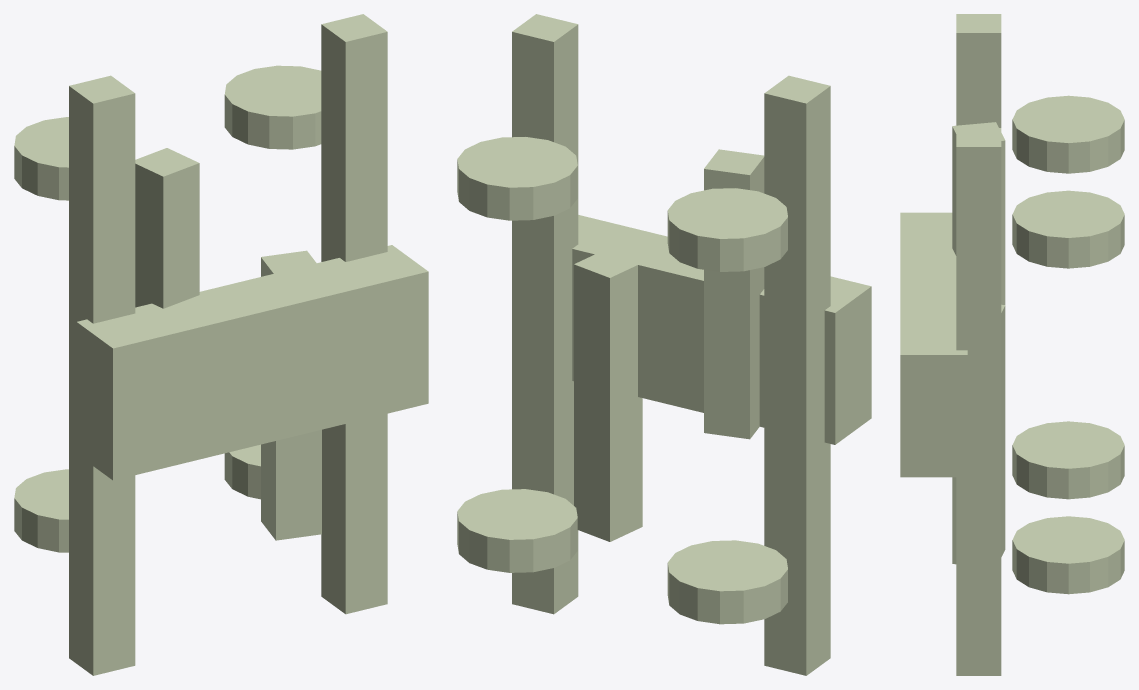
The model's file is furniture_signal_hanger_clamp_pair.glb.
3 views of the same model, side by side, from view 1: azimuth 30°, elevation 25°; view 2: azimuth 150°, elevation 25°; view 3: azimuth 270°, elevation 25° (orthographic). The views are drawn at different scales.
Visible parts, largest first — view 1: standoff_plate, channel_left, channel_right, brace_left, upper_band_right, brace_right, upper_band_left, lower_band_left, lower_band_right; view 2: channel_left, channel_right, standoff_plate, brace_right, brace_left, lower_band_right, upper_band_left, upper_band_right, lower_band_left; view 3: channel_right, standoff_plate, upper_band_left, upper_band_right, lower_band_left, lower_band_right, channel_left, brace_right, brace_left.
Part boxes in pixels (x1,y1,x2,y2): standoff_plate: (76,245,428,480); channel_left: (69,75,135,675); channel_right: (321,14,387,614); brace_left: (135,148,199,308); upper_band_right: (224,65,321,149); brace_right: (261,250,321,540); upper_band_left: (14,117,68,200); lower_band_left: (14,469,68,552); lower_band_right: (224,444,260,499); channel_left: (764,75,830,675); channel_right: (512,14,578,614); standoff_plate: (572,215,871,444); brace_right: (574,249,642,541); brace_left: (704,149,764,439); lower_band_right: (457,489,577,572); upper_band_left: (667,188,787,271); upper_band_right: (457,137,577,220); lower_band_left: (667,540,787,624); channel_right: (956,128,1001,675); standoff_plate: (900,212,967,477); upper_band_left: (1012,95,1124,173); upper_band_right: (1012,190,1124,268); lower_band_left: (1012,421,1124,499); lower_band_right: (1012,516,1124,594); channel_left: (956,14,1001,127); brace_right: (952,304,1005,564); brace_left: (952,122,1005,304).
Size of the model in its own units: 0.3 by 0.52 by 0.2.
